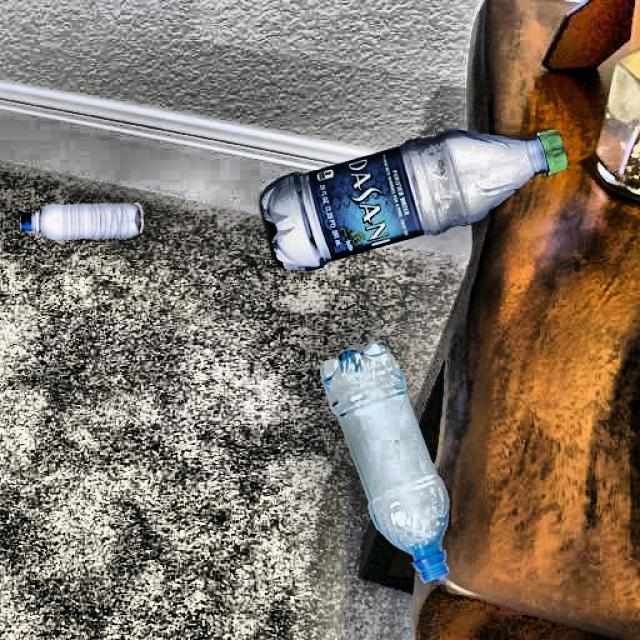plastic bottle: (261, 130, 569, 270), (322, 342, 450, 583), (20, 202, 142, 240)
